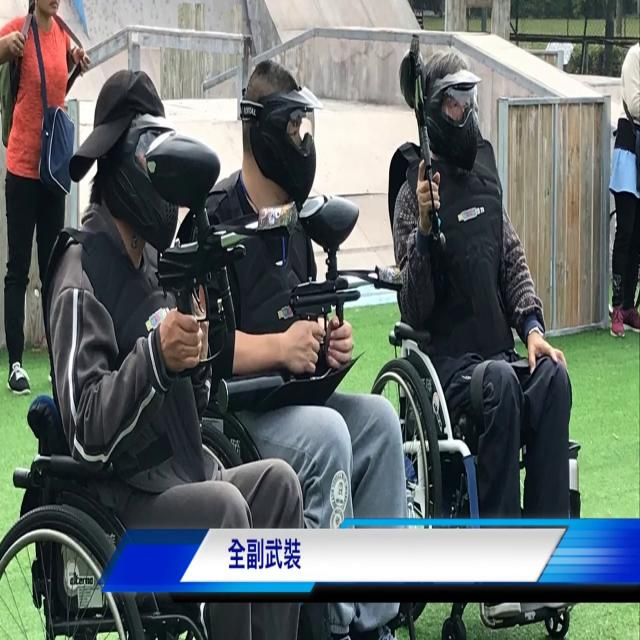wheelchairs: (363, 247, 598, 637), (0, 442, 274, 640)
